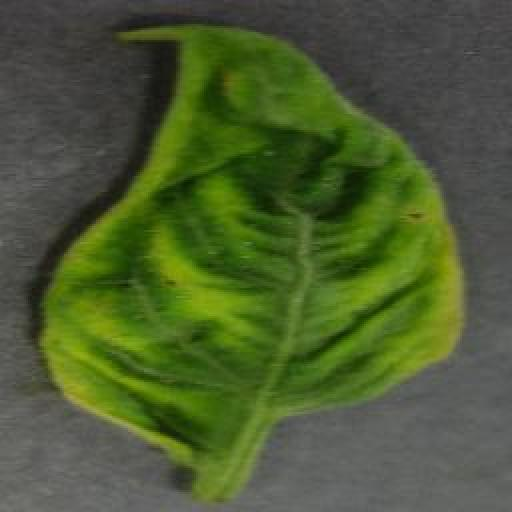Yellow Leaf Curl Virus: (40, 25, 463, 463)
